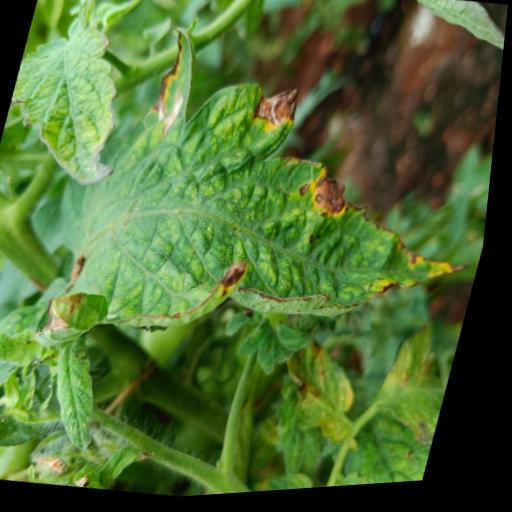Early Blight: (35, 3, 510, 402)
